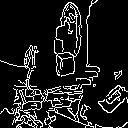cube: (52, 51, 79, 79)
